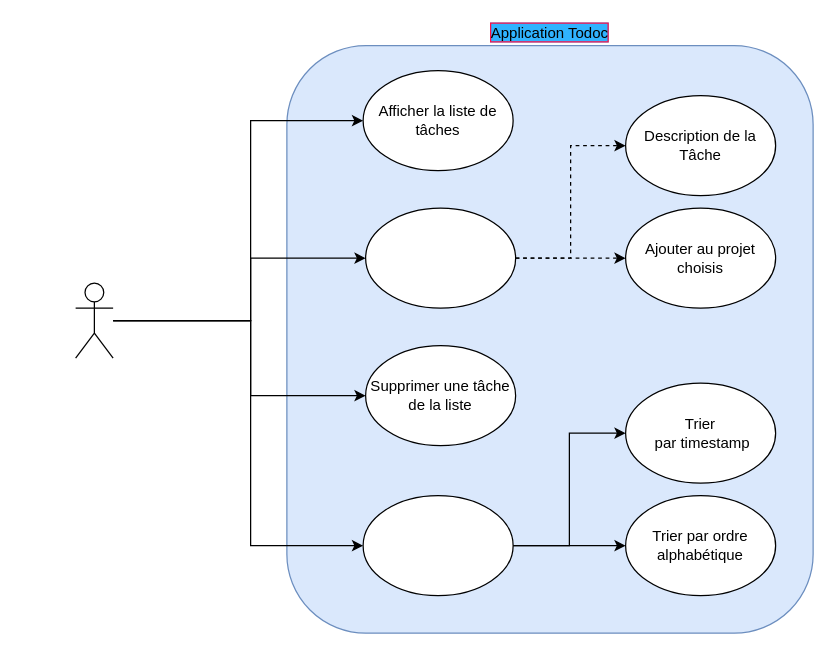
The diagram is 835 pixels wide and 655 high, and some of its shapes have lost their labels. The shapes that lost their labels are listed below. From the top down, each one's centre as x and y in pixels, then its label:
At point (440, 257): "Ajouter une tâche a la liste.".
At point (93, 320): "Utilisateur (Employés)".
At point (437, 545): "Trier liste de tâche".
